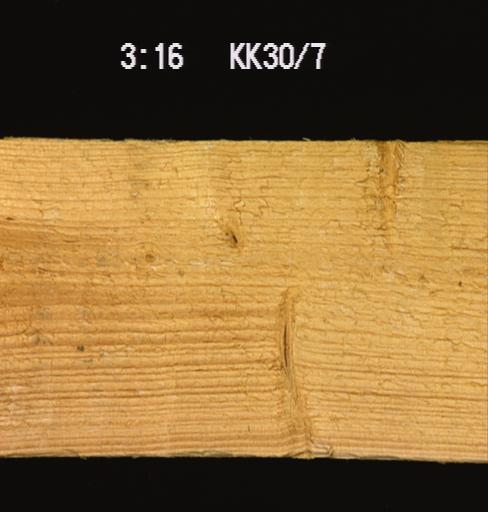small_knot: (214, 209, 242, 257), (139, 244, 163, 271)
